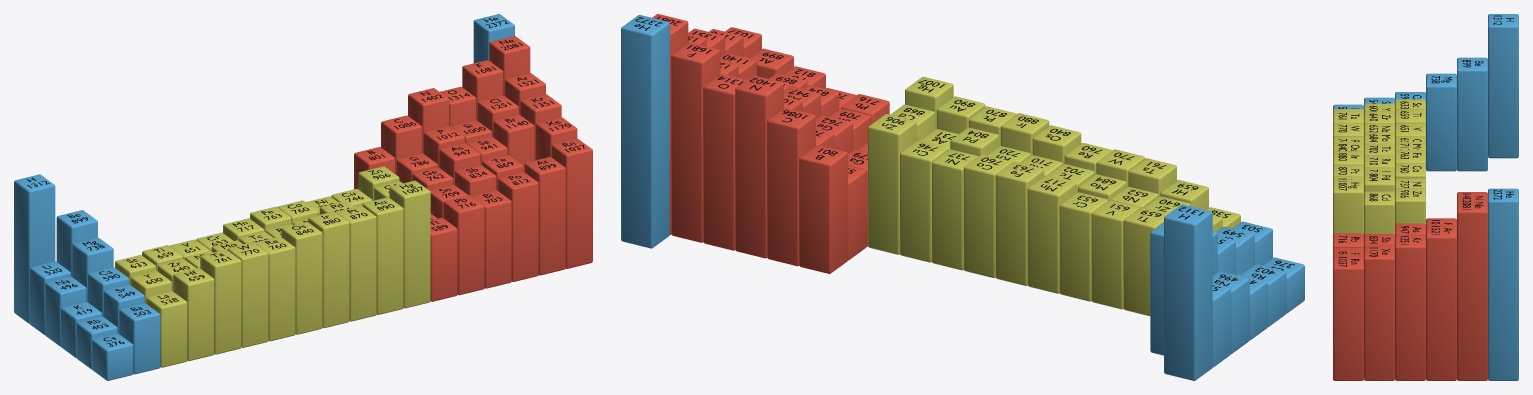
Rendered from s105 7.02 graf atom ion energie.glb.
3 views of the same model, side by side, from view 1: azimuth 30°, elevation 25°; view 2: azimuth 150°, elevation 25°; view 3: azimuth 270°, elevation 25° (orthographic). The views are drawn at different scales.
Visible parts, largest first — view 1: P001.008, P080.003, P086.003, P085.003, P077.003, P079.003, P076.003, P084.003, P078.003, P073.003, P082.003, P074.003 (+43 smaller); view 2: P002.007, P001.008, P009.007, P007.007, P005.007, P008.007, P006.007, P030.007, P026.007, P027.007, P025.007, P029.007 (+34 smaller); view 3: P002.007, P010.007, P018.007, P036.007, P001.008, P054.007, P086.003, P004.007, P012.007, P080.003, P048.007, P030.007 (+28 smaller).
Boxes of the visible parts, left/top/right/bottom form: P001.008: left=14, top=174, right=55, bottom=323; P080.003: left=389, top=180, right=430, bottom=308; P086.003: left=551, top=138, right=592, bottom=268; P085.003: left=524, top=157, right=565, bottom=275; P077.003: left=308, top=211, right=349, bottom=328; P079.003: left=362, top=197, right=403, bottom=314; P076.003: left=281, top=221, right=322, bottom=334; P084.003: left=497, top=171, right=538, bottom=281; P078.003: left=336, top=205, right=376, bottom=321; P073.003: left=200, top=249, right=241, bottom=354; P082.003: left=443, top=195, right=484, bottom=295; P074.003: left=227, top=242, right=268, bottom=347; P002.007: left=621, top=15, right=669, bottom=248; P001.008: left=1164, top=204, right=1212, bottom=380; P009.007: left=671, top=42, right=720, bottom=242; P007.007: left=735, top=75, right=783, bottom=258; P005.007: left=799, top=145, right=847, bottom=273; P008.007: left=703, top=74, right=746, bottom=250; P006.007: left=767, top=108, right=815, bottom=266; P030.007: left=868, top=114, right=916, bottom=254; P026.007: left=995, top=161, right=1044, bottom=285; P027.007: left=963, top=154, right=1012, bottom=277; P025.007: left=1027, top=175, right=1076, bottom=293; P029.007: left=900, top=140, right=948, bottom=262; P002.007: left=1488, top=188, right=1518, bottom=380; P010.007: left=1457, top=199, right=1487, bottom=380; P018.007: left=1426, top=224, right=1456, bottom=380; P036.007: left=1395, top=234, right=1425, bottom=380; P001.008: left=1488, top=14, right=1518, bottom=158; P054.007: left=1364, top=246, right=1394, bottom=380; P086.003: left=1333, top=255, right=1363, bottom=380; P004.007: left=1457, top=57, right=1487, bottom=171; P012.007: left=1426, top=73, right=1456, bottom=171; P080.003: left=1333, top=179, right=1363, bottom=234; P048.007: left=1364, top=191, right=1394, bottom=234; P030.007: left=1395, top=188, right=1425, bottom=224.
Size of the model in its own units: 0.18 by 0.0642 by 0.06.
